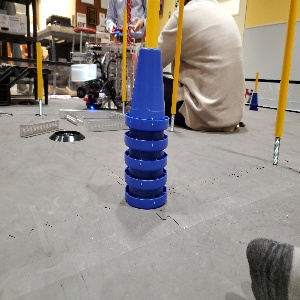Blue_2: (248, 90, 258, 110)
Blue_4: (124, 46, 167, 209)
